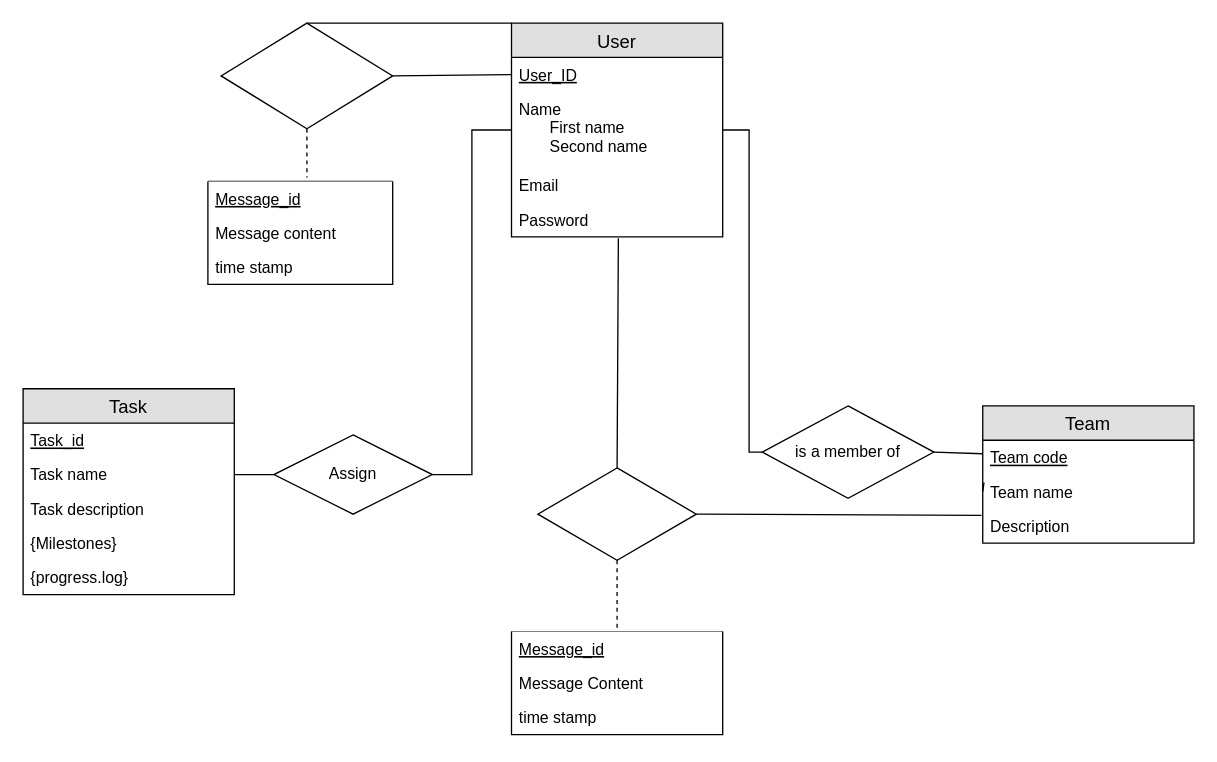
Image size: 1217x762. Some labels were removed from this diagram. Here are the shapes that lost their labels. From the top down, the centre of each, then its label:
At (x=306, y=75): "Send PrivateMessage".
At (x=616, y=513): "Send Group Message".
